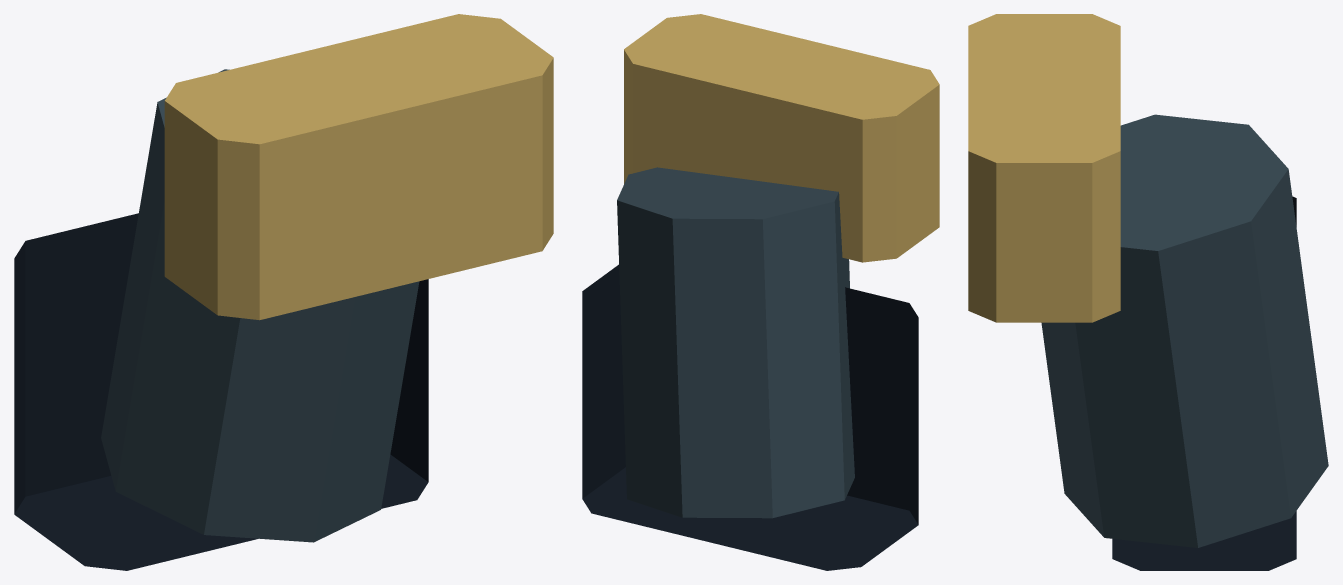
The model's file is enemy_gunner_lod_shin_r.obj.
The picture shows the model from 3 angles, left to right: view 1: azimuth 30°, elevation 25°; view 2: azimuth 150°, elevation 25°; view 3: azimuth 270°, elevation 25°; orthographic projection. The views are drawn at different scales.
Size of the model in its own units: 0.51 by 0.59 by 0.4499.
